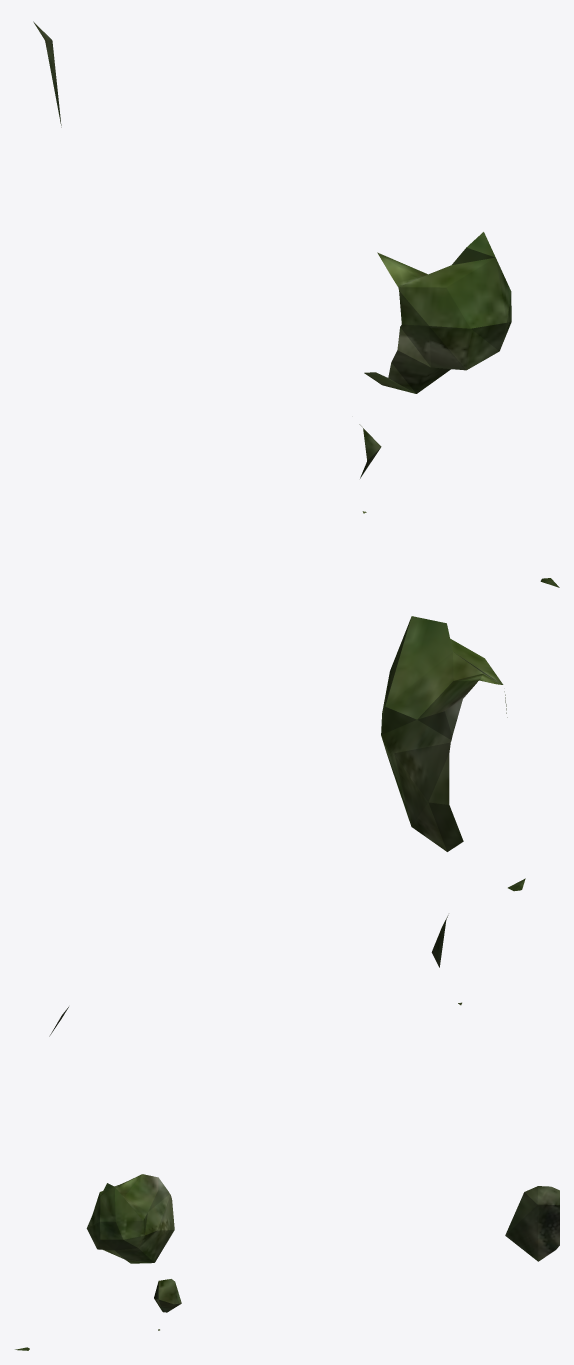
3 views of the same model, one above another, from view 1: azimuth 30°, elevation 25°; view 2: azimuth 150°, elevation 25°; view 3: azimuth 270°, elevation 25° (orthographic). The views are drawn at different scales.
Bounding box in the file's own units: 0.0989 × 0.2708 × 0.8051.
1 material, 1 textured.
